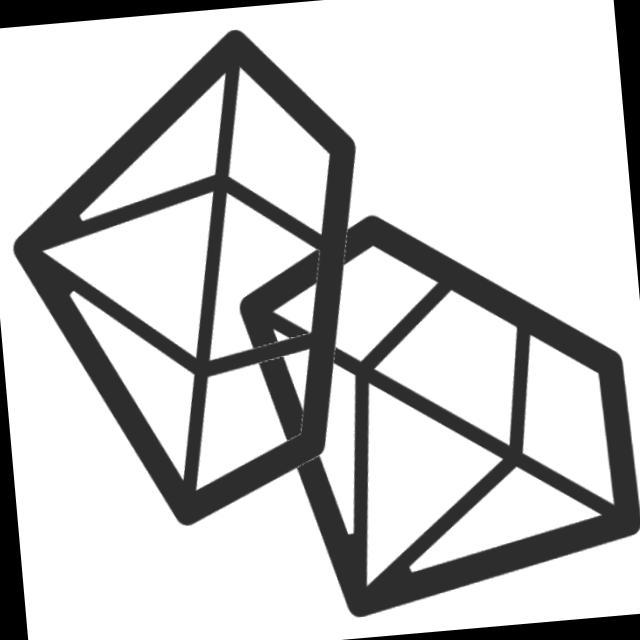diamond: (1, 9, 402, 553), (220, 172, 640, 636)
